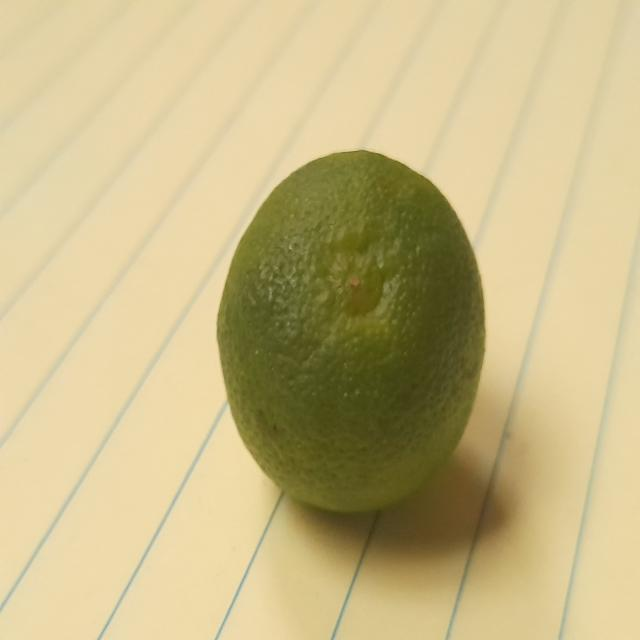heathy: (207, 142, 502, 526)
